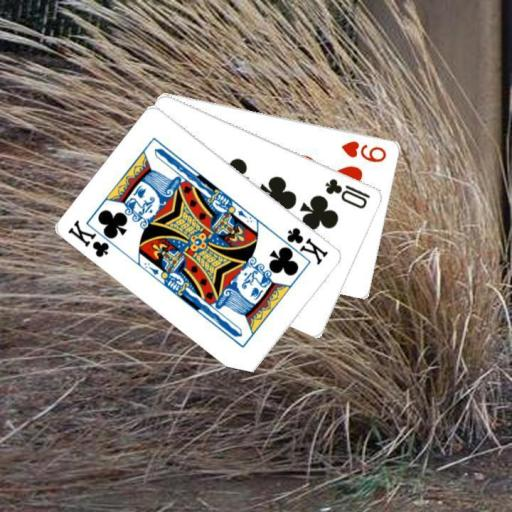card-corner: (64, 217, 122, 259), (274, 224, 330, 267), (322, 175, 372, 210), (338, 137, 388, 164)
